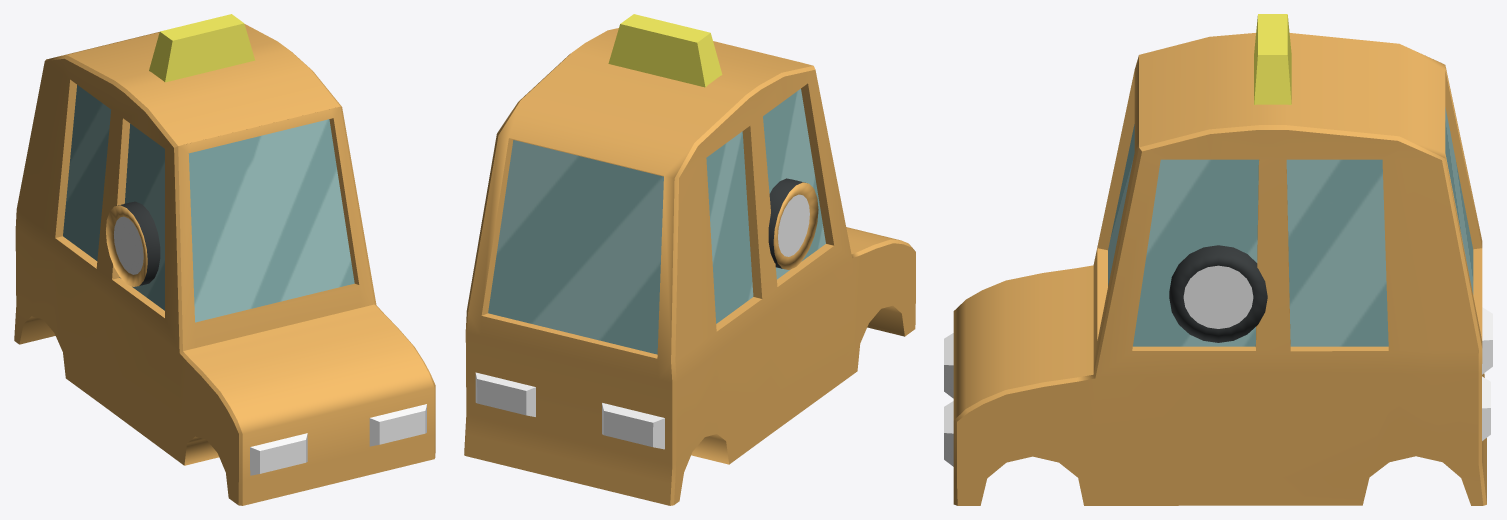
The model's file is car_P.fbx.
The picture shows the model from 3 angles, left to right: view 1: azimuth 30°, elevation 25°; view 2: azimuth 150°, elevation 25°; view 3: azimuth 270°, elevation 25°; orthographic projection. The views are drawn at different scales.
Parts seen in each view (by area): view 1: car_P_chasis, car_P_right_wheel, car_P_back_wheel; view 2: car_P_chasis, car_P_right_wheel; view 3: car_P_chasis, car_P_back_wheel, car_P_left_wheel.
Boxes of the visible parts, x1=… form: car_P_chasis: x1=14, y1=14, x2=435, y2=505; car_P_right_wheel: x1=106, y1=201, x2=160, y2=286; car_P_back_wheel: x1=118, y1=203, x2=159, y2=285; car_P_chasis: x1=464, y1=14, x2=915, y2=505; car_P_right_wheel: x1=768, y1=179, x2=818, y2=269; car_P_chasis: x1=944, y1=14, x2=1492, y2=505; car_P_back_wheel: x1=1169, y1=245, x2=1267, y2=342; car_P_left_wheel: x1=1169, y1=245, x2=1267, y2=297.
Size of the model in its own units: 76.25 by 131 by 157.
